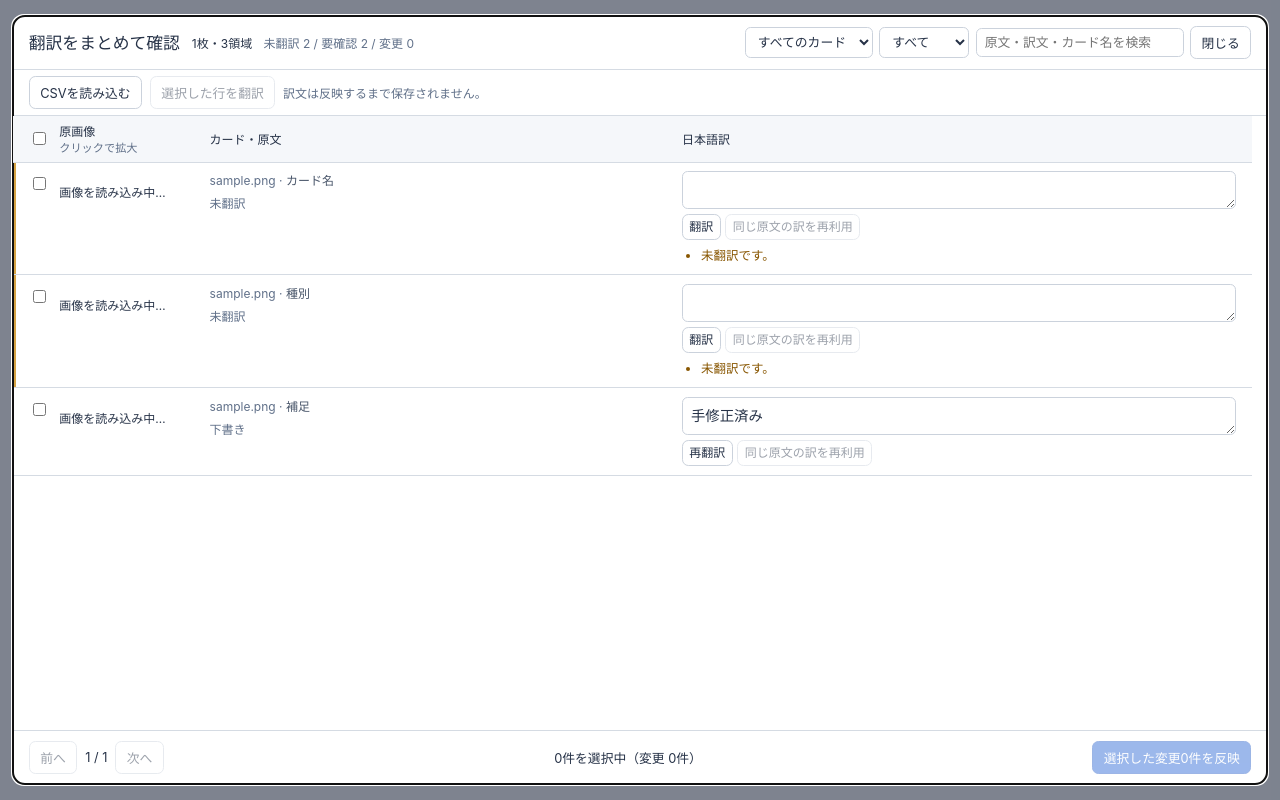
Test case: retranslates an existing draft without applying it to the card
What coordinates should you click on to do the following:
click the button "再翻訳"
I would click on:
 (707, 453)
Its box is [682, 440, 733, 466].
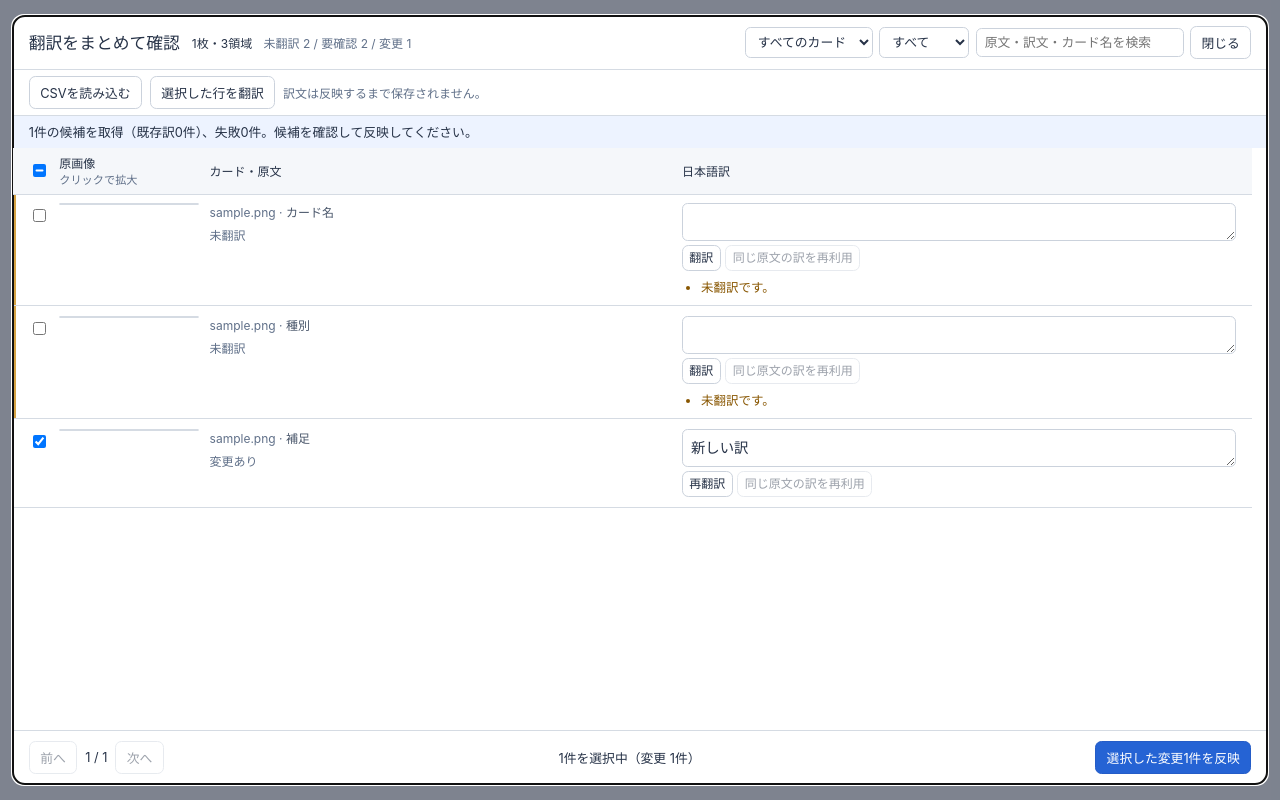
Check: the text box in the row of "補足" holds "新しい訳", box [682, 429, 1236, 467]
